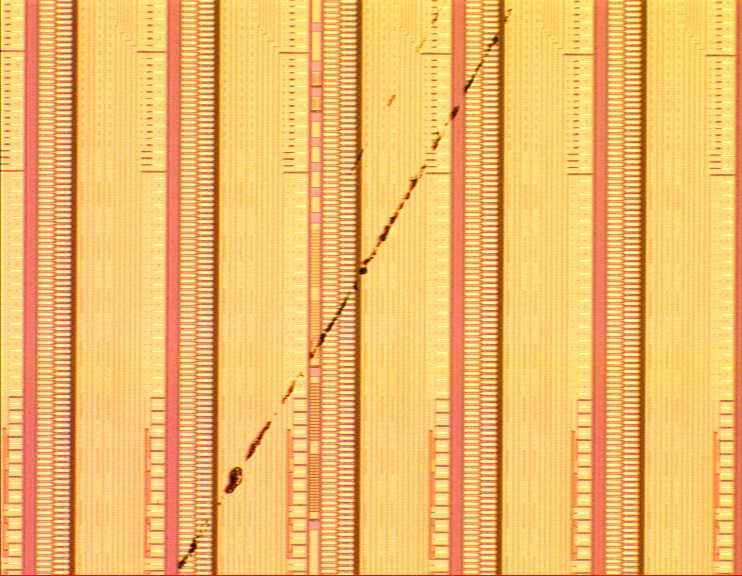SCRATCH: (165, 1, 529, 576), (331, 1, 458, 188)
